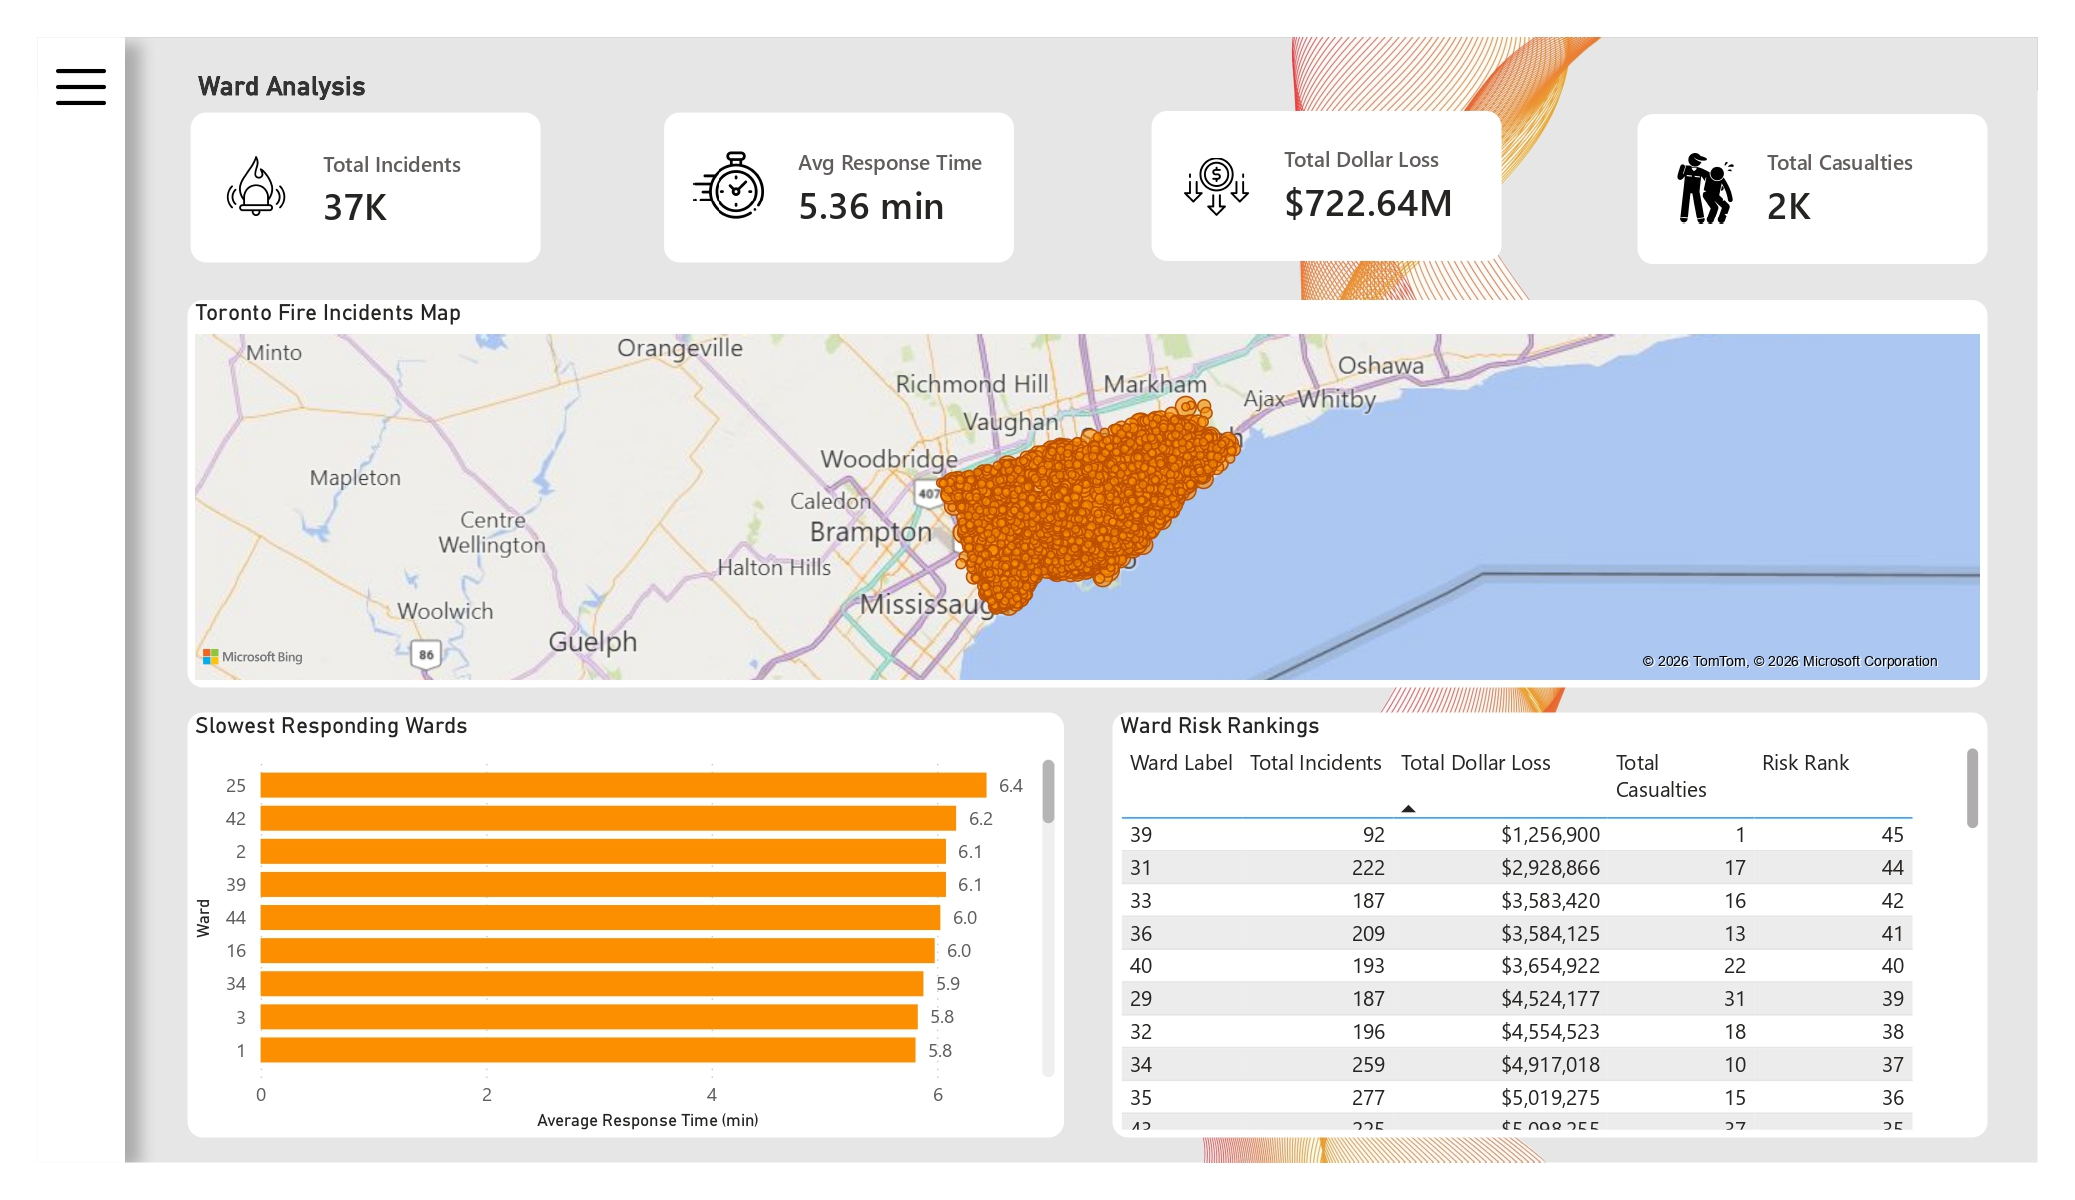

This screenshot's page, from the dashboard's own definition file:
{"tool":"powerbi","page":{"name":"Ward Analysis","canvas":[1280,720],"ordinal":2},"visuals":[{"type":"shape","box":[687.7,432.2,560.4,272],"z":0},{"type":"shape","box":[96.1,432.2,560.4,272],"z":1000},{"type":"shape","box":[0,0,56,720],"z":2000},{"type":"image","box":[6.8,16.5,42.7,32],"z":3000},{"type":"clusteredBarChart","title":"Slowest Responding Wards","fields":{"Category":["vw_ResponseSummary.Ward_Label"],"Y":["Avg(vw_ResponseSummary.avg_response_time_min)"]},"box":[96,432,560,272],"z":4000},{"type":"tableEx","title":"Ward Risk Rankings","fields":{"Values":["vw_WardRisk.Ward_Label","vw_WardRisk.total_incidents","vw_WardRisk.total_dollar_loss","vw_WardRisk.total_casualties","vw_WardRisk.risk_rank"]},"box":[688,432,560,272],"z":5000},{"type":"shape","box":[96.1,168,1152,247.7],"z":6000},{"type":"map","title":"Toronto Fire Incidents Map","fields":{"Y":["fact_incidents.Latitude"],"X":["fact_incidents.Longitude"],"Size":["_Measures.Total Dollar Loss"]},"box":[96,168,1152,248],"z":7000},{"type":"shape","box":[97.7,48.1,224,96],"z":8000},{"type":"shape","box":[401.2,47.8,224,96],"z":9000},{"type":"shape","box":[1024.1,48.7,224,96],"z":10000},{"type":"cardVisual","fields":{"Data":["_Measures.Total Incidents"]},"box":[153.8,49.4,168.3,95.7],"z":11000},{"type":"shape","box":[713.5,46.8,224,96],"z":12000},{"type":"cardVisual","fields":{"Data":["_Measures.Total Dollar Loss"]},"box":[769.4,46.5,168.3,95.7],"z":13000},{"type":"cardVisual","fields":{"Data":["_Measures.Avg Response Time (min)"]},"box":[458.3,48.2,182.5,95.7],"z":14000},{"type":"cardVisual","fields":{"Data":["_Measures.Total Casualties"]},"box":[1078.3,48.3,170.1,95.7],"z":15000},{"type":"image","box":[115.8,72.4,48.7,45.2],"z":16000},{"type":"image","box":[417.6,72.1,48.7,45.2],"z":17000},{"type":"image","box":[729.6,73,48.7,45.2],"z":18000},{"type":"image","box":[1042.9,74,48.7,45.2],"z":19000},{"type":"textbox","title":"Ward Analysis","box":[97.7,21.4,147.1,22.3],"z":20001}]}

Visuals, with their boxes on the page's 1280x720 design canvas (x1, y1, x2, y2). These are canvas units, not pixel positions in the 2075x1200 screenshot, which may show the page scaled, cropped or inside an application window:
shape: left=688, top=432, right=1248, bottom=704
shape: left=96, top=432, right=656, bottom=704
shape: left=0, top=0, right=56, bottom=720
image: left=7, top=16, right=50, bottom=48
"Slowest Responding Wards" clusteredBarChart: left=96, top=432, right=656, bottom=704
"Ward Risk Rankings" tableEx: left=688, top=432, right=1248, bottom=704
shape: left=96, top=168, right=1248, bottom=416
"Toronto Fire Incidents Map" map: left=96, top=168, right=1248, bottom=416
shape: left=98, top=48, right=322, bottom=144
shape: left=401, top=48, right=625, bottom=144
shape: left=1024, top=49, right=1248, bottom=145
cardVisual - _Measures.Total Incidents: left=154, top=49, right=322, bottom=145
shape: left=714, top=47, right=938, bottom=143
cardVisual - _Measures.Total Dollar Loss: left=769, top=46, right=938, bottom=142
cardVisual - _Measures.Avg Response Time (min): left=458, top=48, right=641, bottom=144
cardVisual - _Measures.Total Casualties: left=1078, top=48, right=1248, bottom=144
image: left=116, top=72, right=164, bottom=118
image: left=418, top=72, right=466, bottom=117
image: left=730, top=73, right=778, bottom=118
image: left=1043, top=74, right=1092, bottom=119
"Ward Analysis" textbox: left=98, top=21, right=245, bottom=44
